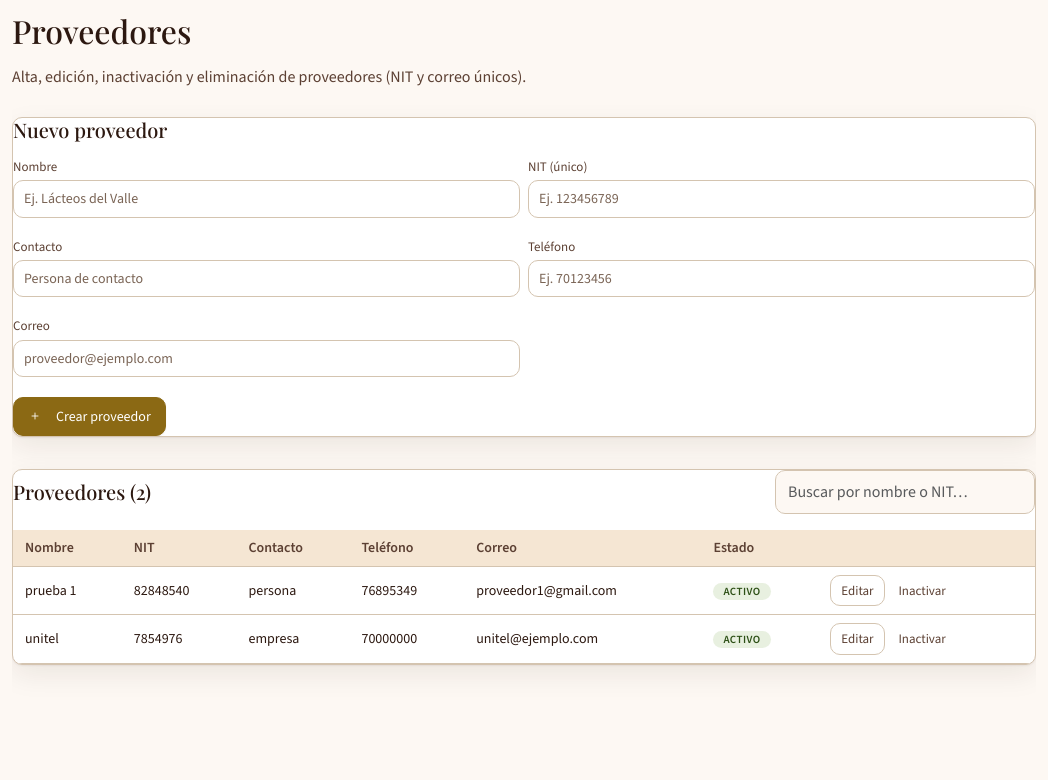
Test: Proveedores › filtra por nombre o NIT
The image size is (1048, 780).
Expected: the text "prueba 1" is shown, [13, 566, 122, 615]
In the field named "Buscar proveedores": (905, 492) [775, 470, 1035, 514], type "unitel"
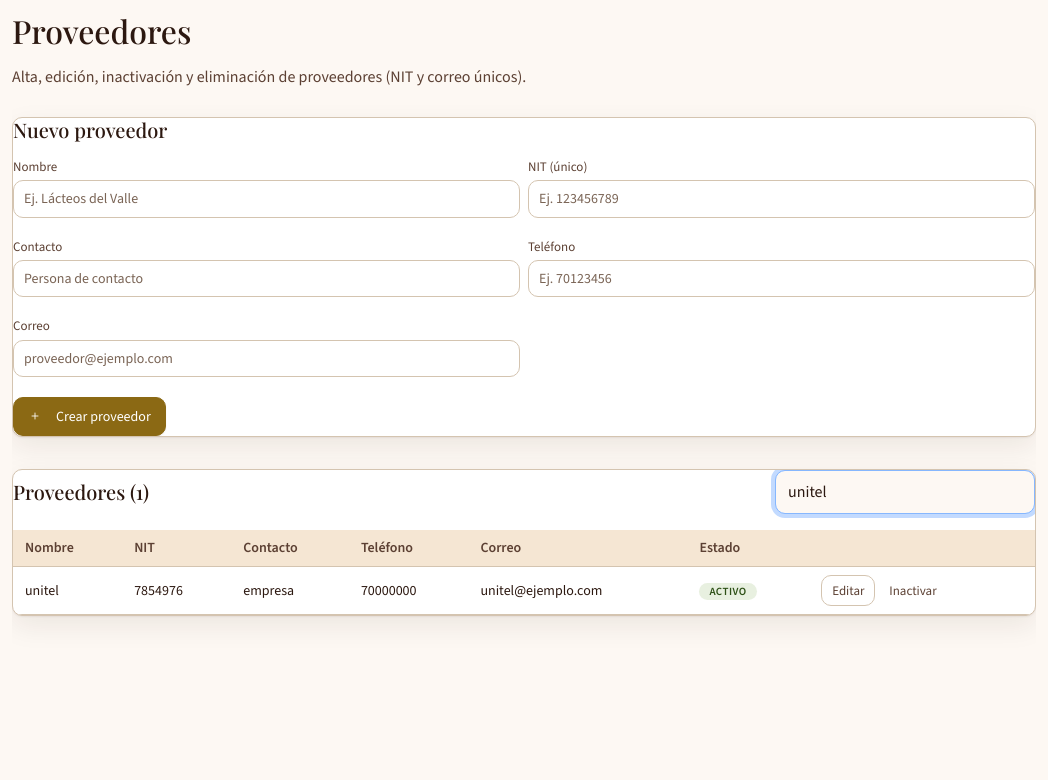
Expected: the text "unitel" is shown, [13, 566, 122, 615]
Expected: the text "prueba 1" is gone
